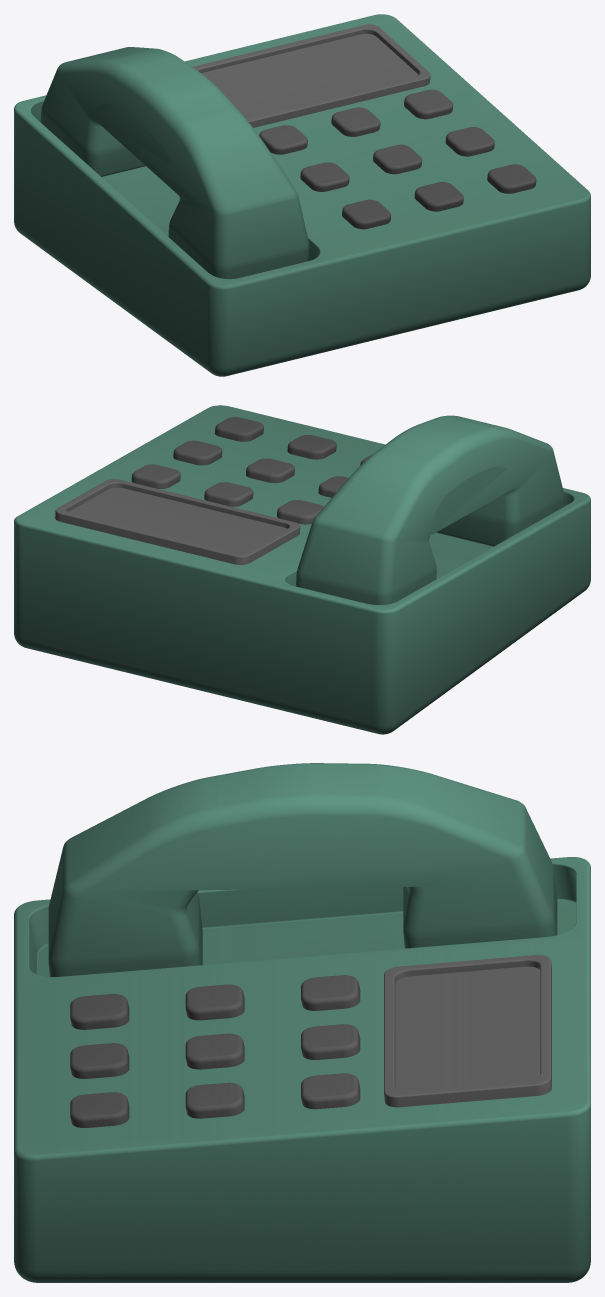
File: scientist_phone.fbx
The picture shows the model from 3 angles, top to bottom: view 1: azimuth 30°, elevation 25°; view 2: azimuth 150°, elevation 25°; view 3: azimuth 270°, elevation 25°; orthographic projection. The views are drawn at different scales.
Parts seen in each view (by area): view 1: Cube.002, Cube.001; view 2: Cube.002, Cube.001; view 3: Cube.002, Cube.001.
Boxes of the visible parts, x1=… form: Cube.002: x1=14, y1=14, x2=590, y2=376; Cube.001: x1=40, y1=47, x2=309, y2=279; Cube.002: x1=14, y1=405, x2=590, y2=734; Cube.001: x1=296, y1=415, x2=564, y2=604; Cube.002: x1=14, y1=857, x2=590, y2=1282; Cube.001: x1=48, y1=763, x2=557, y2=976.
Bounding box in the file's own units: 38.59 × 20.6 × 36.49.
1 material, 1 textured.
